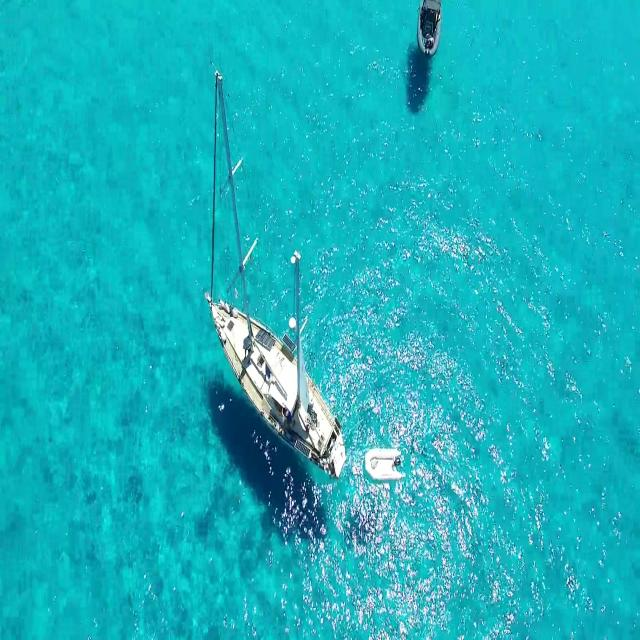ship: (202, 282, 357, 496)
